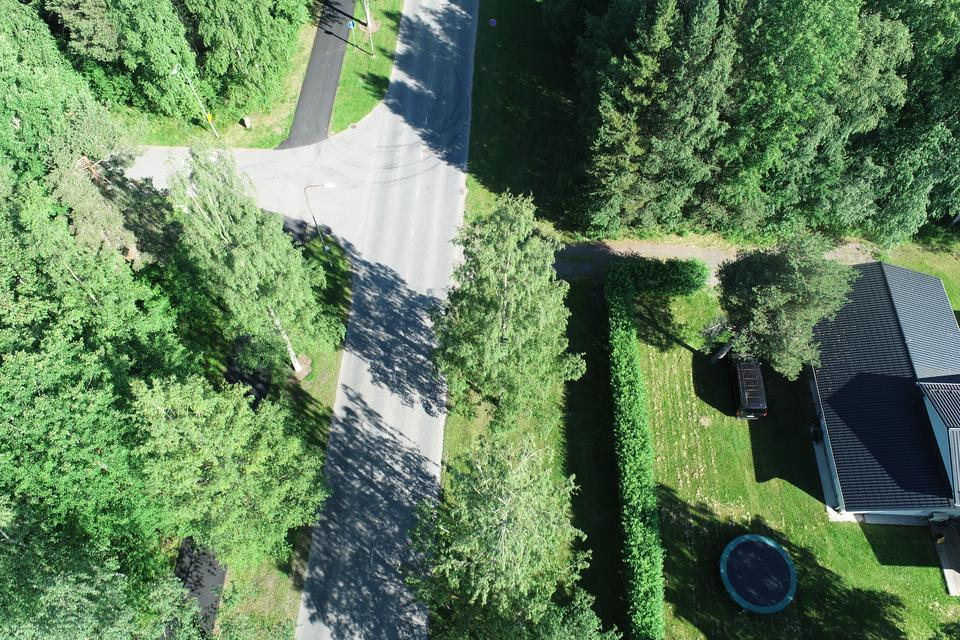intersection: (239, 104, 511, 269)
